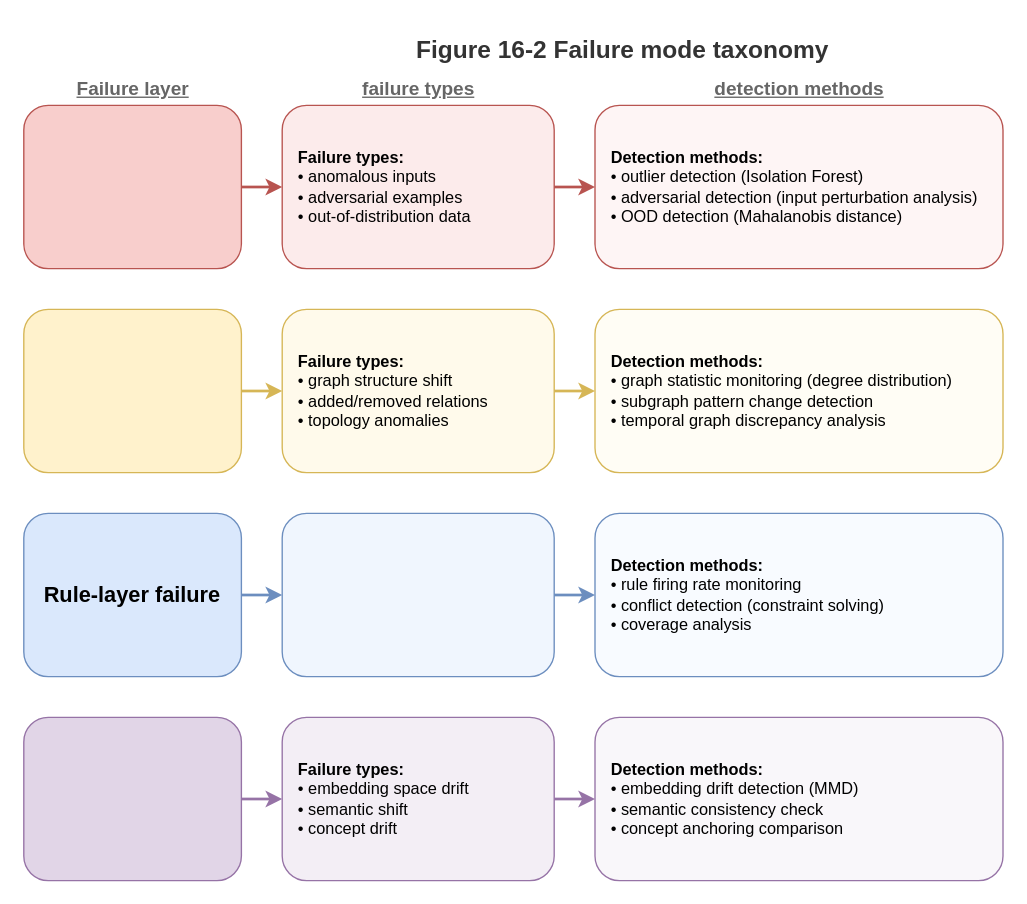
The diagram is 1027 pixels wide and 904 high, and some of its shapes have lost their labels. The box of each missing label's shape, as (x1, y1, x2, y2) in pixels:
Failure types: • stale rules • rule conflicts • coverage gaps: (281, 512, 554, 677)
Input-layer failure: (22, 104, 241, 269)
Relation-layer failure: (22, 308, 241, 473)
Semantic-layer failure: (22, 716, 241, 881)
